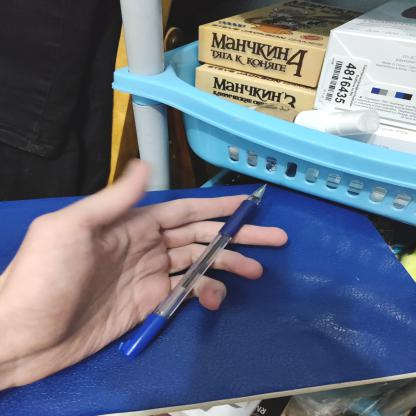pen: (96, 171, 288, 364)
